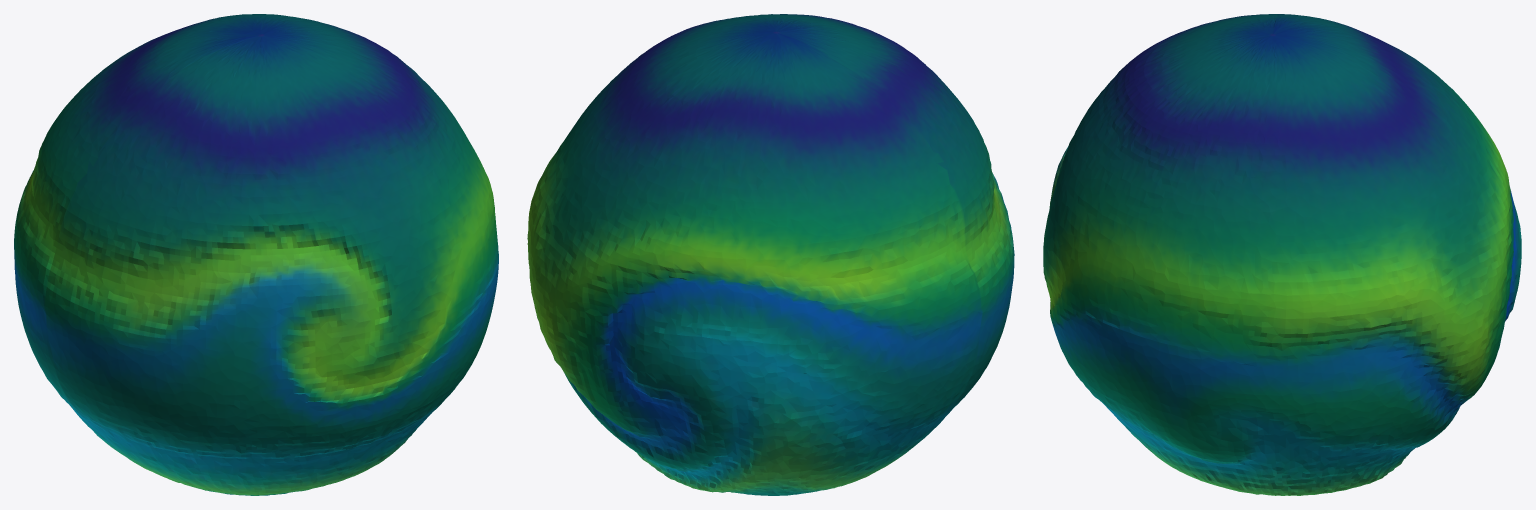
Rendered from BlueGreenMatSwirl.fbx.
3 renders of one model, left to right at view 1: azimuth 30°, elevation 25°; view 2: azimuth 150°, elevation 25°; view 3: azimuth 270°, elevation 25°, orthographic.
Visible parts, largest first — view 1: Sphere; view 2: Sphere; view 3: Sphere.
Part boxes in pixels (x1,y1,x2,y2): Sphere: [14, 14, 498, 495]; Sphere: [527, 14, 1014, 495]; Sphere: [1043, 14, 1521, 495].
Bounding box in the file's own units: 199 × 200 × 198.
